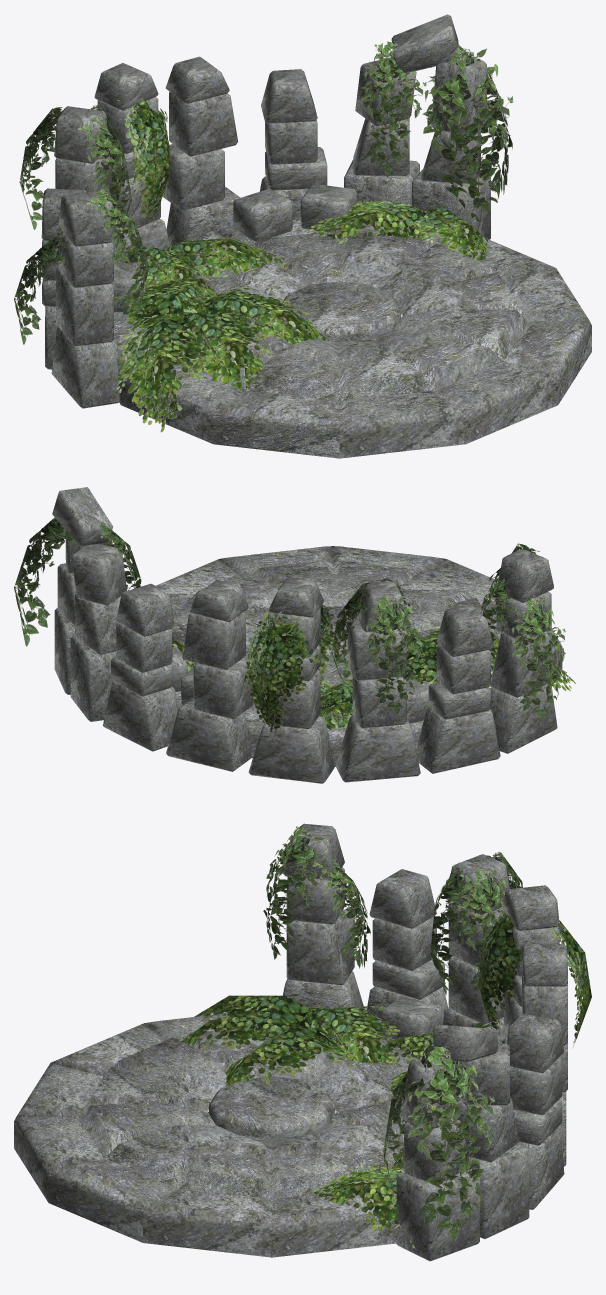
File: Ruin_Stones.glb
3 views of the same model, one above another, from view 1: azimuth 30°, elevation 25°; view 2: azimuth 150°, elevation 25°; view 3: azimuth 270°, elevation 25° (orthographic). The views are drawn at different scales.
Visible parts, largest first — view 1: SpeakingStonesOne300; view 2: SpeakingStonesOne300; view 3: SpeakingStonesOne300.
Boxes of the visible parts, x1,y1,x2,y2 form: SpeakingStonesOne300: (14, 14, 591, 458); SpeakingStonesOne300: (14, 487, 575, 783); SpeakingStonesOne300: (14, 823, 591, 1261).
Size of the model in its own units: 8.5 by 3.32 by 7.23.
3 materials, 3 textured.
